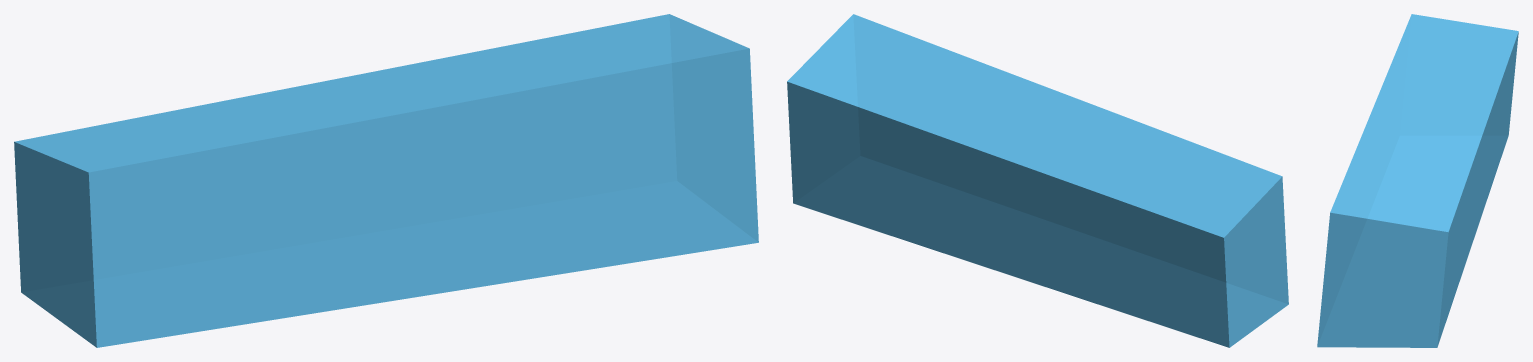
The model's file is Event_420107950_HErechit_67.fbx.
The picture shows the model from 3 angles, left to right: view 1: azimuth 30°, elevation 25°; view 2: azimuth 150°, elevation 25°; view 3: azimuth 270°, elevation 25°; orthographic projection. The views are drawn at different scales.
Visible parts, largest first — view 1: Model; view 2: Model; view 3: Model.
Part boxes in pixels (x1,y1,x2,y2): Model: [14, 14, 758, 347]; Model: [787, 14, 1288, 347]; Model: [1317, 14, 1518, 347].
Size of the model in its own units: 1.19 by 0.352 by 0.4779.
